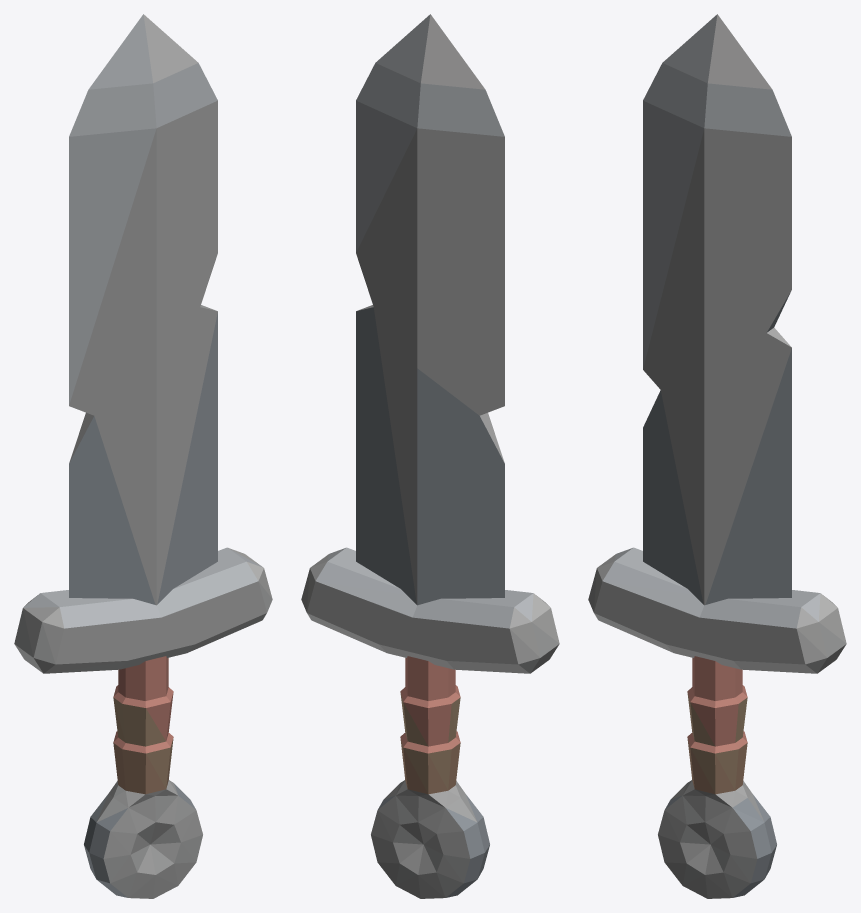
The picture shows the model from 3 angles, left to right: view 1: azimuth 30°, elevation 25°; view 2: azimuth 150°, elevation 25°; view 3: azimuth 330°, elevation 25°; orthographic projection.
Parts seen in each view (by area): view 1: model; view 2: model; view 3: model.
Part boxes in pixels (<box>): model: <box>14,14,272,898</box>; model: <box>301,14,559,898</box>; model: <box>588,14,846,898</box>.
Size of the model in its own units: 0.3776 by 1.33 by 0.098.
